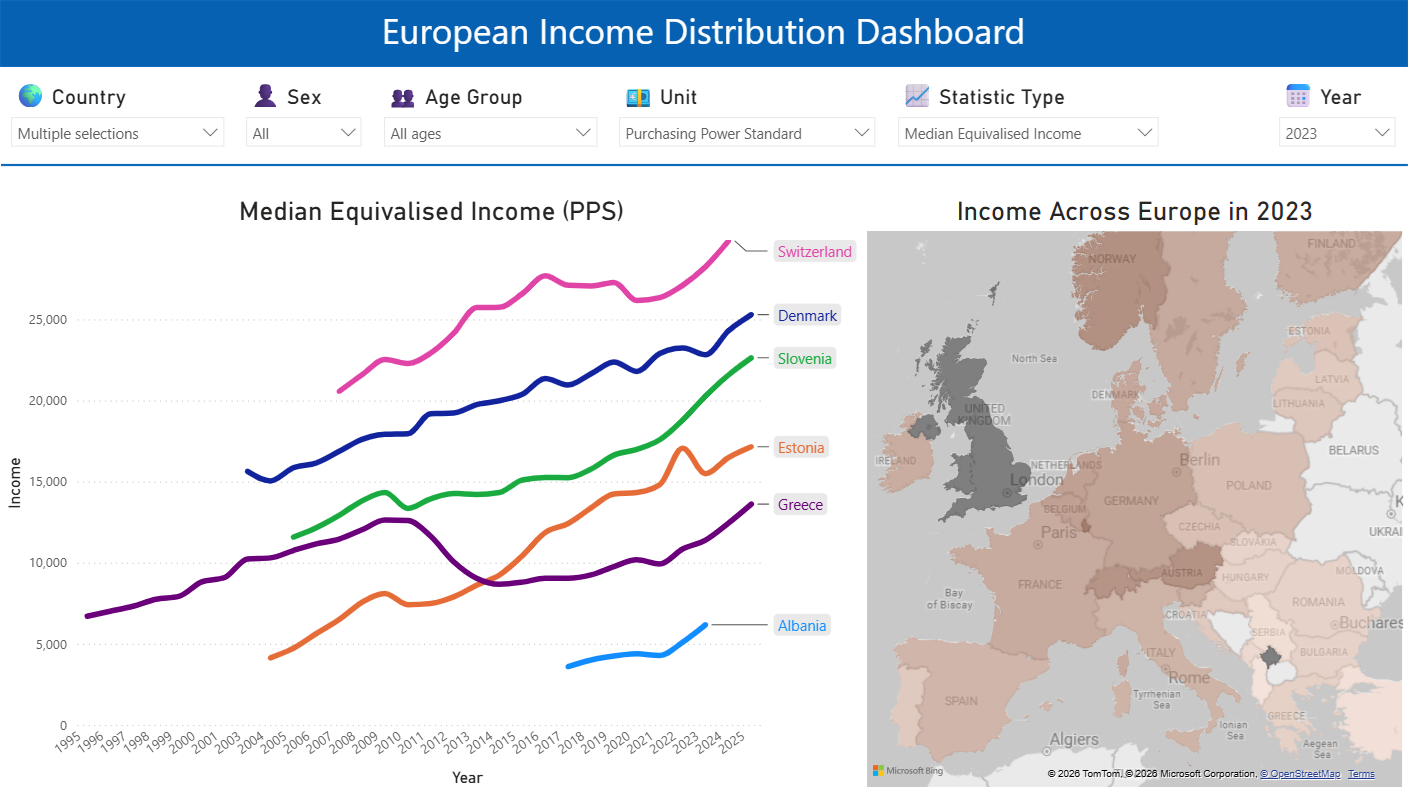

The dashboard page shown, as its layout file describes it:
{"tool":"powerbi","page":{"name":"Income Distribution Dashboard","canvas":[1920,1300],"ordinal":0},"visuals":[{"type":"shape","title":"Background","box":[0,0,1920,1400],"z":0},{"type":"shape","title":"Line Chart Background","box":[21.7,420,1130,861.7],"z":1000},{"type":"shape","title":"Map Background","box":[1166.7,420,733.3,861.7],"z":2000},{"type":"shape","title":"Filters Background","box":[20,173.3,1880,226.7],"z":3000},{"type":"shape","title":"Title Background","box":[0,0,1920,171.7],"z":4000},{"type":"shape","title":"Countries Background","box":[45.7,196.7,595,180.6],"z":5000},{"type":"shape","title":"Demographics Background","box":[663,196,595,180.7],"z":6000},{"type":"shape","title":"Income Background","box":[1281.7,195.8,595,181.7],"z":7000},{"type":"shapeMap","title":"Income by country","fields":{"Category":["dim_country.country_name"]},"box":[1184,436,716,840],"z":8000},{"type":"lineChart","title":"Income trends across Europe","fields":{"Category":["fact_income.year"],"Series":["dim_country.country_name"],"Y":["Sum(fact_income.income)"]},"box":[40,436,1112,840],"z":9000},{"type":"slicer","fields":{"Values":["dim_country.country_name"]},"box":[59.5,259.5,567,105.5],"z":10000},{"type":"slicer","fields":{"Values":["fact_income.year"]},"box":[1680,423.3,210,96.7],"z":11000},{"type":"slicer","fields":{"Values":["dim_sex.sex_label"]},"box":[676.7,259.4,277,105],"z":12000},{"type":"slicer","fields":{"Values":["dim_age.age_label"]},"box":[966.7,260,276.7,105],"z":13000},{"type":"slicer","fields":{"Values":["dim_unit.unit_label"]},"box":[1295.9,259.4,277,105],"z":14000},{"type":"slicer","fields":{"Values":["dim_statinfo.statinfo_label"]},"box":[1585,260,276.7,105],"z":15000},{"type":"textbox","title":"Title","box":[22.5,0,931.7,141.7],"z":16000},{"type":"image","title":"Map Legend","box":[1185,1232.6,240,40],"z":17000},{"type":"cardVisual","title":"Legend Max","fields":{"Data":["fact_income.Legend Max"]},"box":[1305,1191.2,147.1,67.1],"z":18000},{"type":"cardVisual","title":"Legend Min","fields":{"Data":["fact_income.Legend Min"]},"box":[1156.7,1187.1,163.4,74.7],"z":19000},{"type":"textbox","title":"Countries Select","box":[60,200,308.3,70],"z":20000},{"type":"textbox","title":"Population Select","box":[674.8,200,203.8,70.8],"z":21000},{"type":"textbox","title":"Unit Settings Select","box":[1295,200,296.7,71.7],"z":22000},{"type":"textbox","box":[1692.5,22.5,206.7,95],"z":23000}]}

Visuals, with their boxes on the page's 1920x1300 design canvas (x1, y1, x2, y2). These are canvas units, not pixel positions in the 1408x790 screenshot, which may show the page scaled, cropped or inside an application window:
"Background" shape: l=0, t=0, r=1920, b=1400
"Line Chart Background" shape: l=22, t=420, r=1152, b=1282
"Map Background" shape: l=1167, t=420, r=1900, b=1282
"Filters Background" shape: l=20, t=173, r=1900, b=400
"Title Background" shape: l=0, t=0, r=1920, b=172
"Countries Background" shape: l=46, t=197, r=641, b=377
"Demographics Background" shape: l=663, t=196, r=1258, b=377
"Income Background" shape: l=1282, t=196, r=1877, b=378
"Income by country" shapeMap: l=1184, t=436, r=1900, b=1276
"Income trends across Europe" lineChart: l=40, t=436, r=1152, b=1276
slicer - dim_country.country_name: l=60, t=260, r=626, b=365
slicer - fact_income.year: l=1680, t=423, r=1890, b=520
slicer - dim_sex.sex_label: l=677, t=259, r=954, b=364
slicer - dim_age.age_label: l=967, t=260, r=1243, b=365
slicer - dim_unit.unit_label: l=1296, t=259, r=1573, b=364
slicer - dim_statinfo.statinfo_label: l=1585, t=260, r=1862, b=365
"Title" textbox: l=22, t=0, r=954, b=142
"Map Legend" image: l=1185, t=1233, r=1425, b=1273
"Legend Max" cardVisual: l=1305, t=1191, r=1452, b=1258
"Legend Min" cardVisual: l=1157, t=1187, r=1320, b=1262
"Countries Select" textbox: l=60, t=200, r=368, b=270
"Population Select" textbox: l=675, t=200, r=879, b=271
"Unit Settings Select" textbox: l=1295, t=200, r=1592, b=272
textbox: l=1692, t=22, r=1899, b=118
